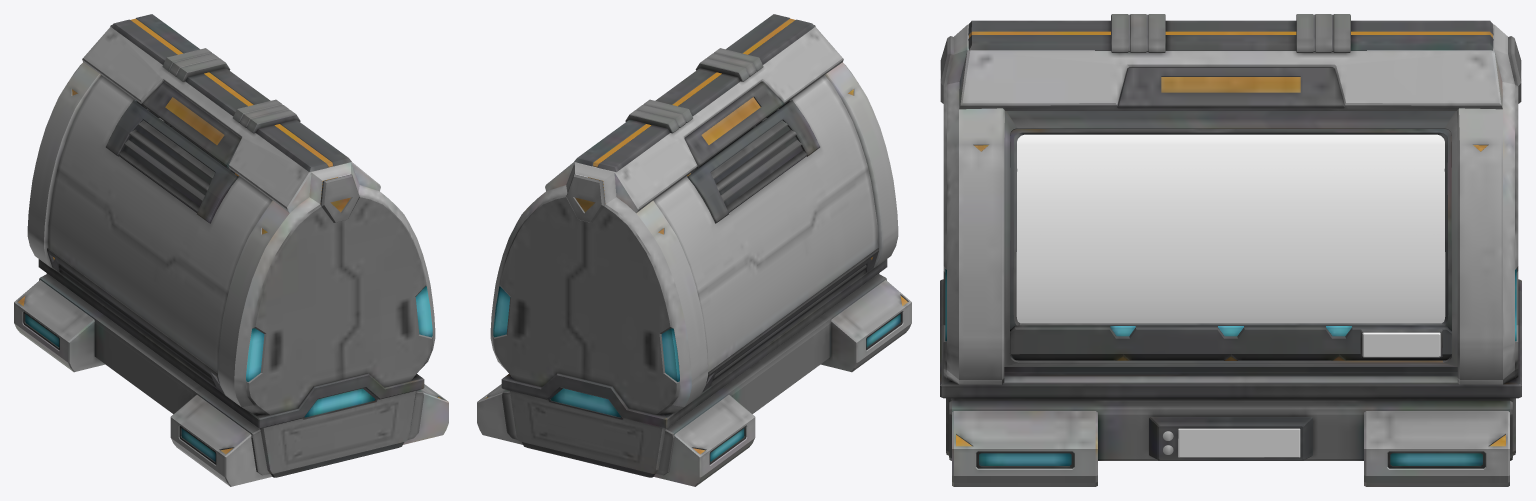
File: SM_EggHatchingMachineFuture_0e91bf.glb
The picture shows the model from 3 angles, left to right: view 1: azimuth 30°, elevation 25°; view 2: azimuth 150°, elevation 25°; view 3: azimuth 270°, elevation 25°; orthographic projection. The views are drawn at different scales.
Size of the model in its own units: 1.79 by 2.28 by 3.05.
Materials: 2 (1 with a texture image).
